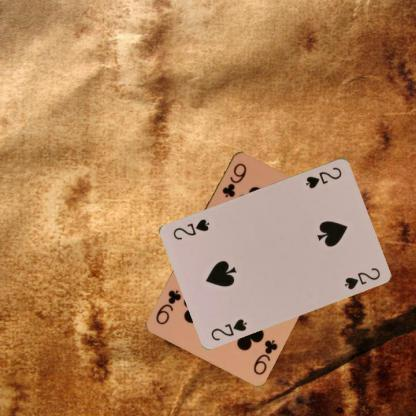2s: (302, 164, 344, 190), (209, 315, 249, 342)
9c: (219, 159, 248, 199), (250, 336, 279, 376)
